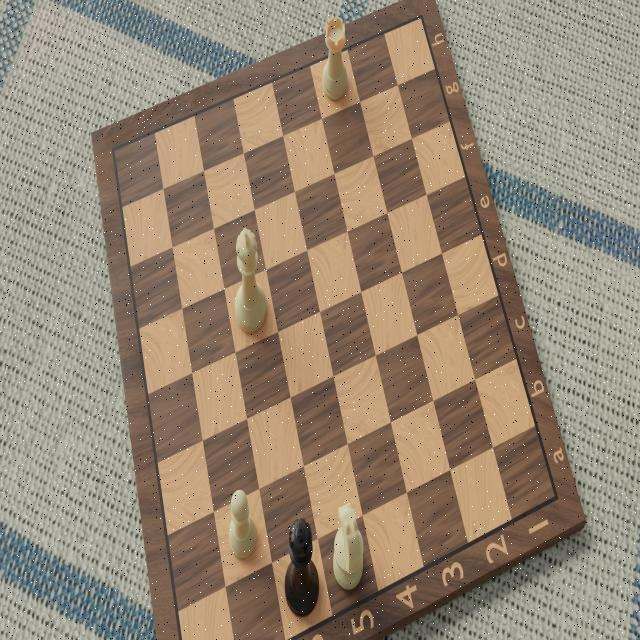black-king: (283, 514, 321, 624)
white-king: (233, 223, 268, 340)
white-knight: (329, 499, 363, 593)
white-pawn: (226, 488, 262, 568)
white-rook: (319, 10, 350, 108)
